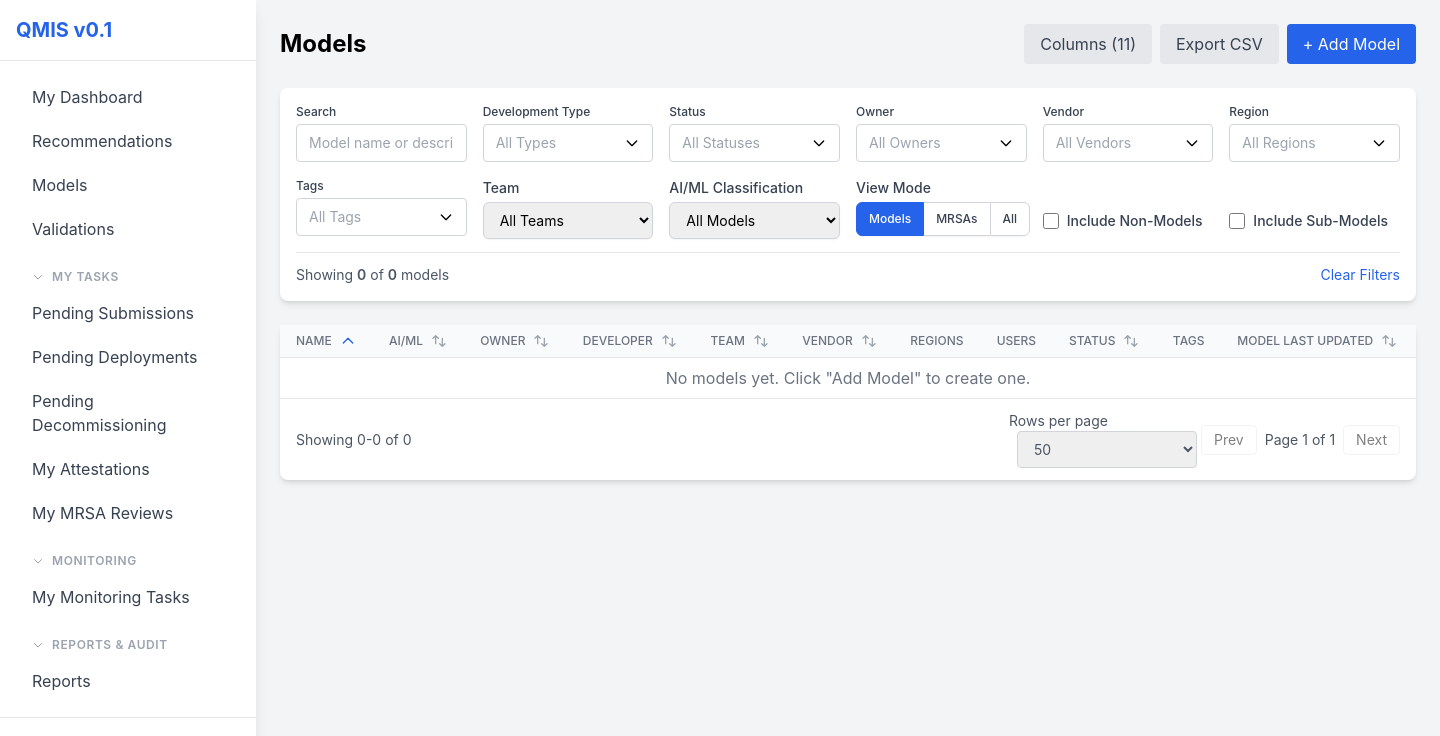
Test case: ModelsPage › opens create form when Add Model clicked
Click the button "+ Add Model".
click(1351, 44)  # box [1287,24,1416,64]
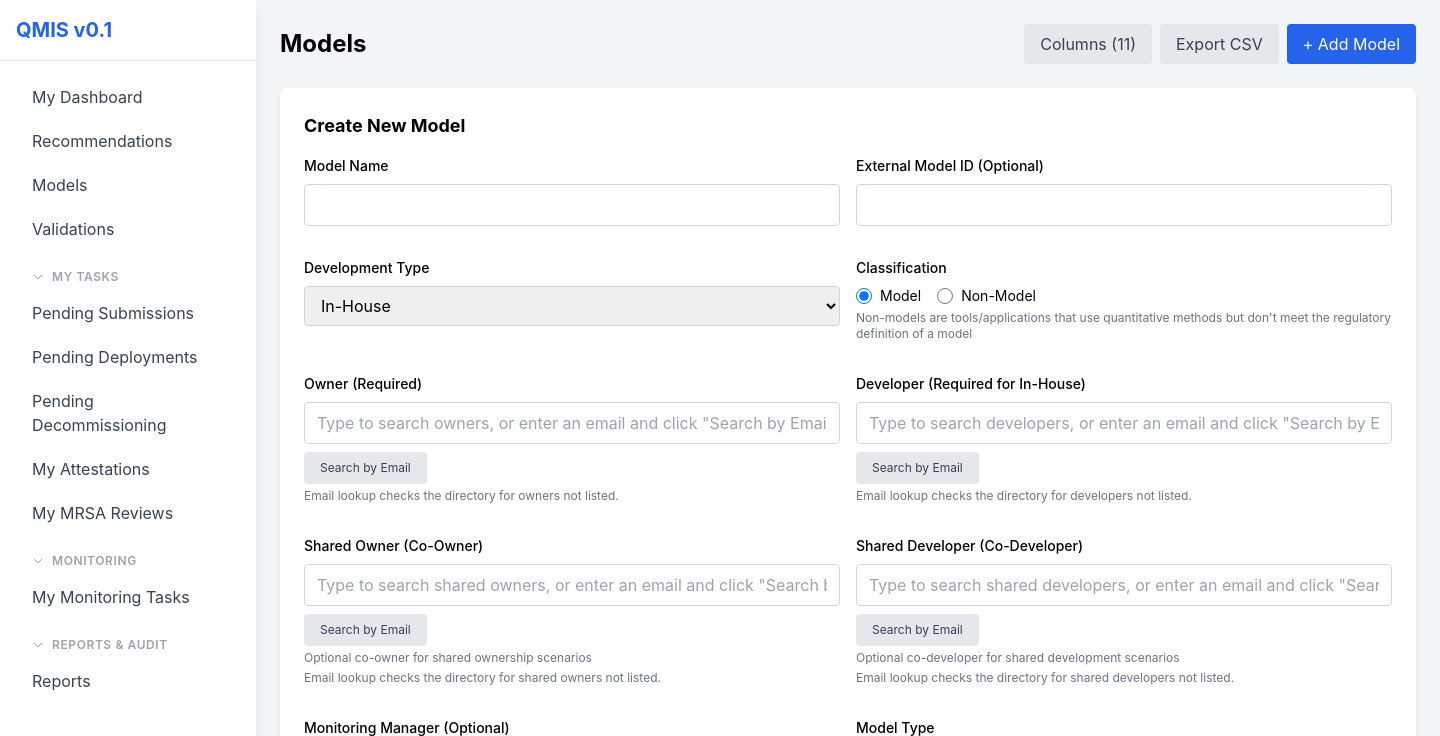
Expected: the field labelled "Model Name" is shown, [304,184,840,226]
Expected: the dropdown labelled "Development Type" is shown, [304,286,840,326]
Expected: the field labelled "Owner (Required)" is shown, [304,402,840,444]
